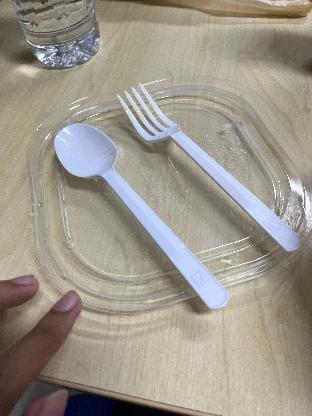Others: (46, 127, 234, 319), (114, 76, 300, 252)
